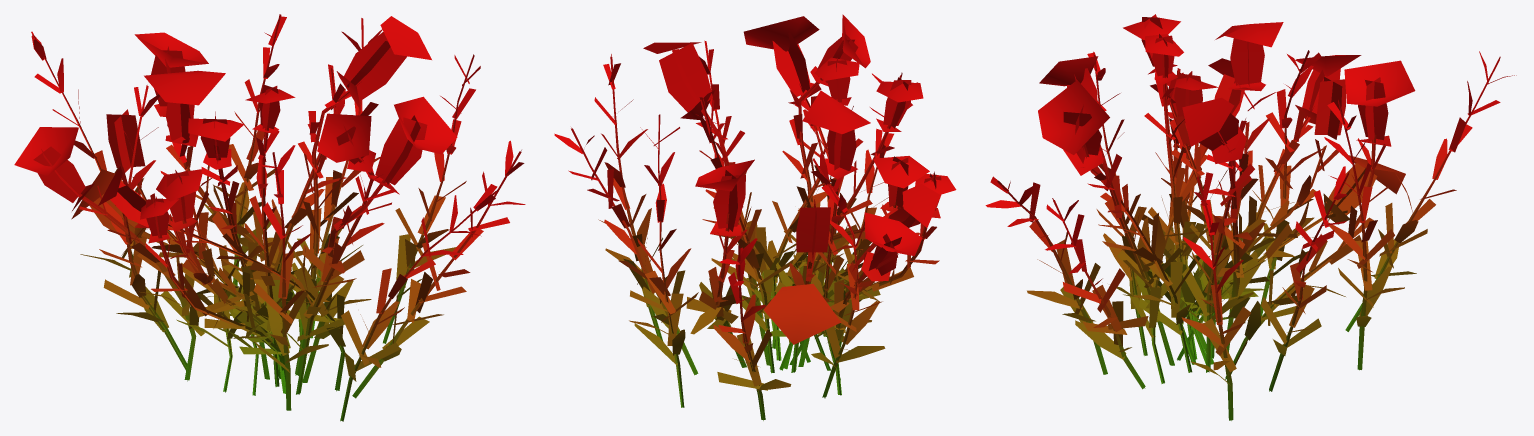
File: Var8_LOD3.fbx
3 views of the same model, side by side, from view 1: azimuth 30°, elevation 25°; view 2: azimuth 150°, elevation 25°; view 3: azimuth 270°, elevation 25° (orthographic). The views are drawn at different scales.
Parts seen in each view (by area): view 1: _pm8u_Var8_LOD3; view 2: _pm8u_Var8_LOD3; view 3: _pm8u_Var8_LOD3.
Boxes of the visible parts, box(x1,y1,x2,y2) form: _pm8u_Var8_LOD3: box(14, 14, 525, 421); _pm8u_Var8_LOD3: box(554, 14, 956, 420); _pm8u_Var8_LOD3: box(985, 14, 1516, 420).
Bounding box in the file's own units: 36.88 × 29.08 × 43.42.
